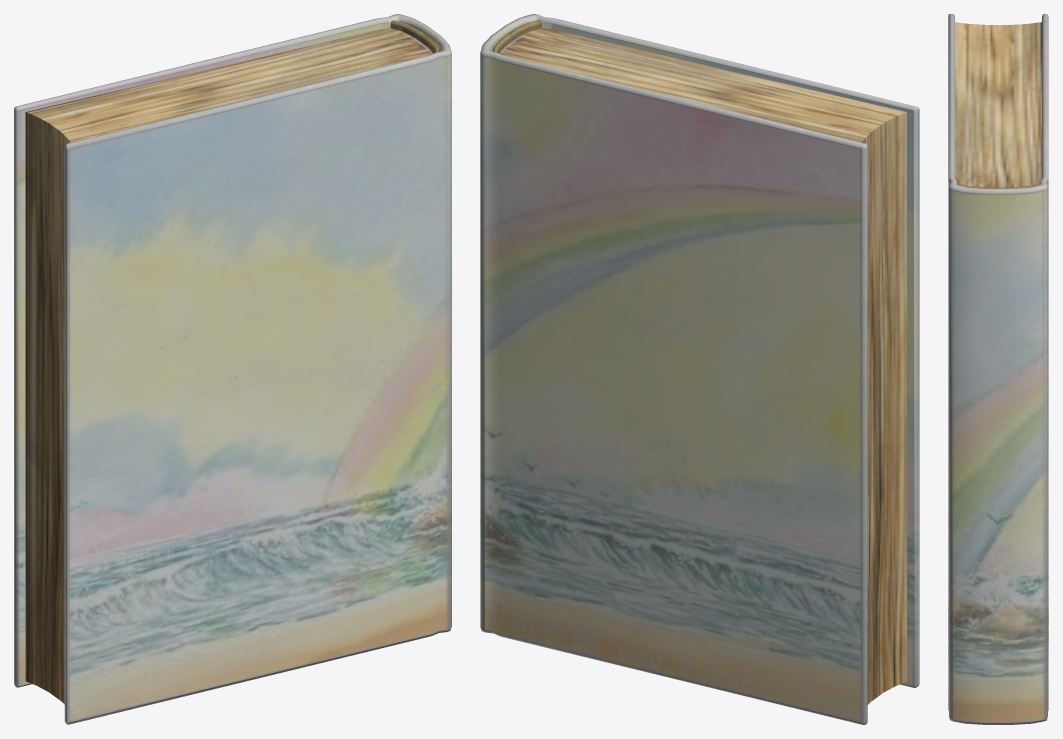
Rendered from Book_02.FBX.
3 renders of one model, left to right at view 1: azimuth 30°, elevation 25°; view 2: azimuth 150°, elevation 25°; view 3: azimuth 270°, elevation 25°, orthographic. The views are drawn at different scales.
Parts seen in each view (by area): view 1: 对象255, Book_02; view 2: 对象255, Book_02; view 3: 对象255, Book_02.
Boxes of the visible parts, left/top/right/bottom form: 对象255: left=14, top=14, right=451, bottom=724; Book_02: left=25, top=20, right=439, bottom=704; 对象255: left=480, top=14, right=919, bottom=724; Book_02: left=492, top=20, right=906, bottom=704; 对象255: left=948, top=14, right=1048, bottom=724; Book_02: left=955, top=22, right=1041, bottom=188.
Bounding box in the file's own units: 185 × 259 × 44.17.
Materials: 2 (2 with a texture image).
